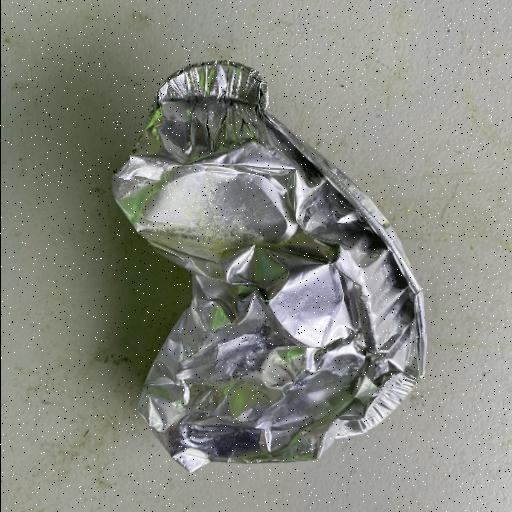Metal: (110, 58, 428, 474)
